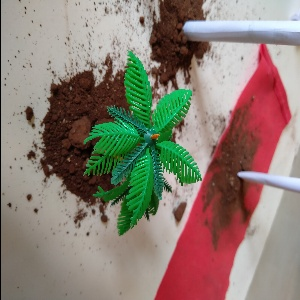plant: (84, 46, 202, 241)
weed: (178, 11, 300, 55), (237, 158, 300, 190)
